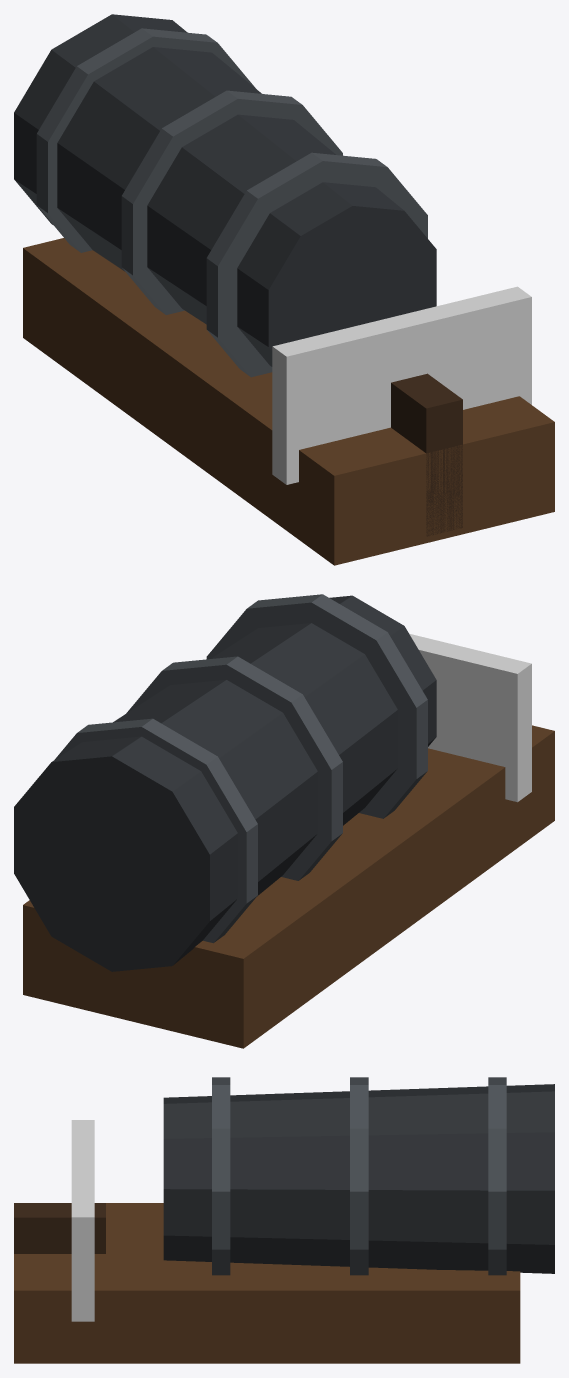
The model's file is art_bombard.glb.
3 views of the same model, one above another, from view 1: azimuth 30°, elevation 25°; view 2: azimuth 150°, elevation 25°; view 3: azimuth 270°, elevation 25° (orthographic). The views are drawn at different scales.
Parts seen in each view (by area): view 1: art_bombard; view 2: art_bombard; view 3: art_bombard.
Boxes of the visible parts, <box> form: art_bombard: <box>14,14,554,565</box>; art_bombard: <box>14,594,554,1048</box>; art_bombard: <box>14,1077,554,1363</box>.
Size of the model in its own units: 1 by 1.13 by 2.35.
